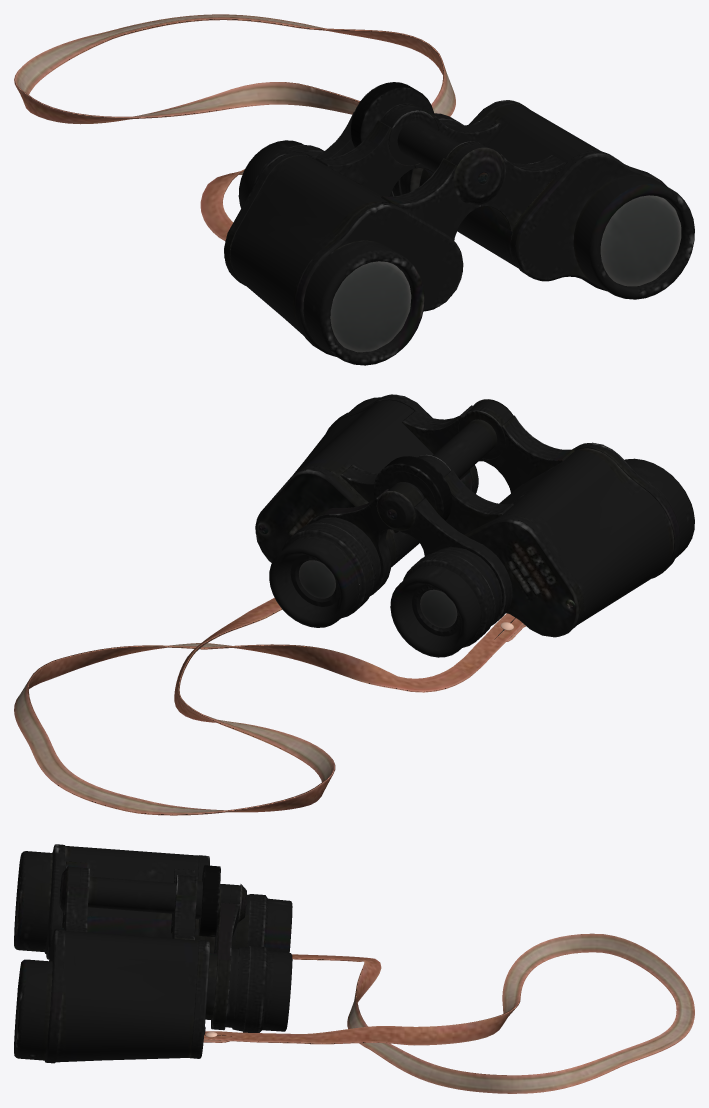
File: binoculars.glb
3 renders of one model, top to bottom at view 1: azimuth 30°, elevation 25°; view 2: azimuth 150°, elevation 25°; view 3: azimuth 270°, elevation 25°, orthographic. The views are drawn at different scales.
Parts seen in each view (by area): view 1: binoculars_right, binoculars_left, binoculars_strap, binoculars_column; view 2: binoculars_right, binoculars_left, binoculars_strap, binoculars_column; view 3: binoculars_left, binoculars_strap, binoculars_right, binoculars_column.
Boxes of the visible parts, left/top/right/bottom form: binoculars_right: left=224, top=111, right=480, bottom=365; binoculars_left: left=390, top=100, right=694, bottom=299; binoculars_strap: left=14, top=14, right=455, bottom=240; binoculars_column: left=350, top=82, right=505, bottom=205; binoculars_right: left=390, top=415, right=694, bottom=657; binoculars_left: left=255, top=394, right=483, bottom=627; binoculars_strap: left=14, top=598, right=525, bottom=815; binoculars_column: left=373, top=399, right=513, bottom=534; binoculars_left: left=14, top=886, right=292, bottom=1063; binoculars_strap: left=203, top=933, right=694, bottom=1093; binoculars_right: left=14, top=844, right=292, bottom=959; binoculars_column: left=59, top=865, right=246, bottom=936.
Bounding box in the file's own units: 0.1669 × 0.0662 × 0.2879.
Materials: 2 (2 with a texture image).
